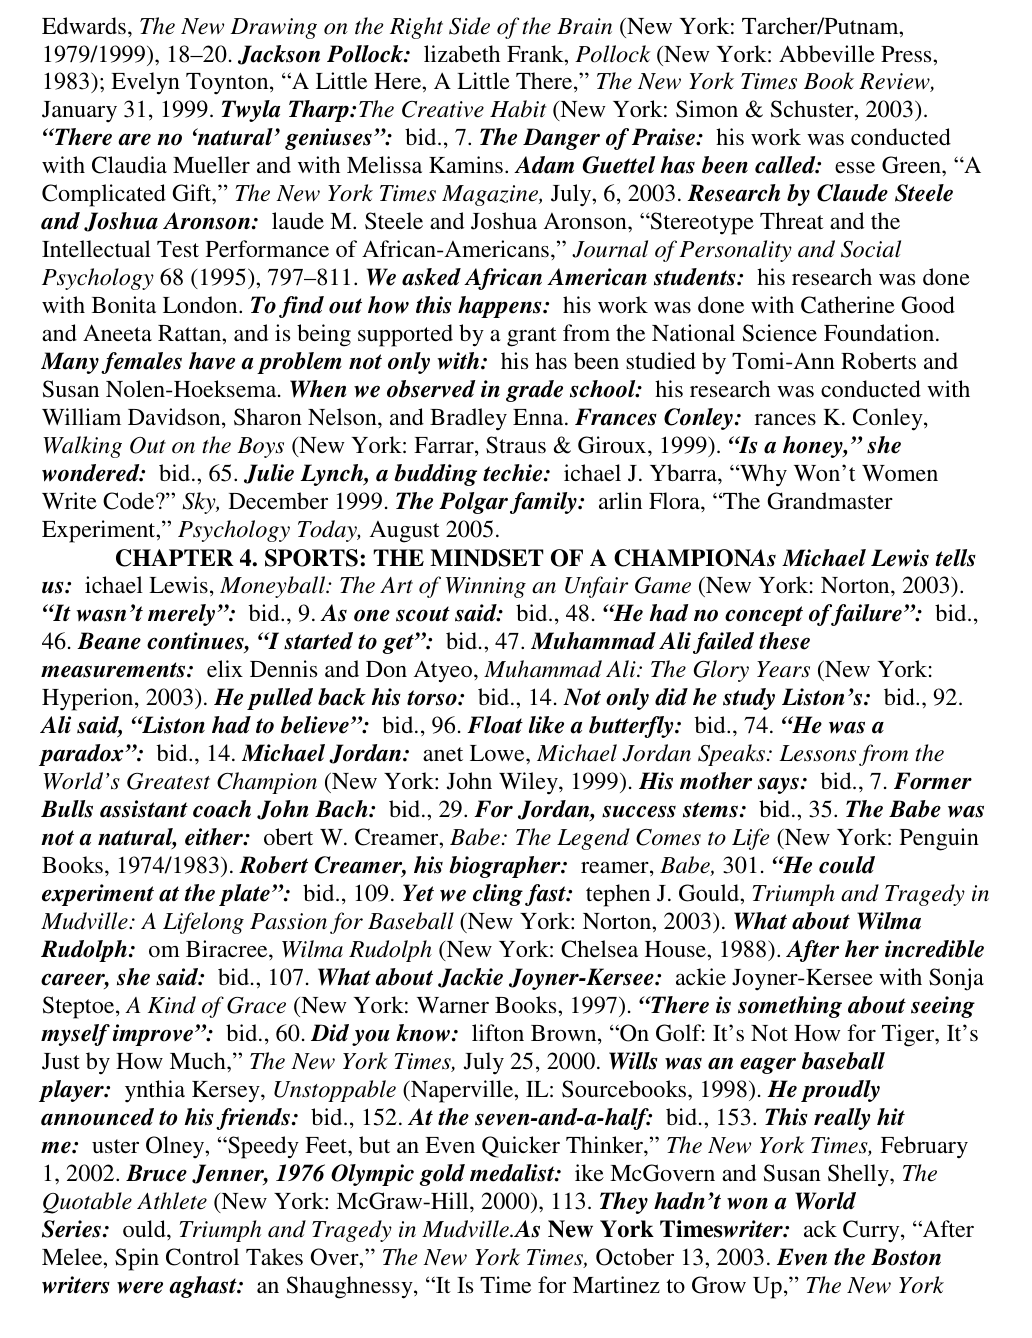latin: (25, 995, 984, 1304), (38, 14, 976, 292), (29, 292, 973, 543), (35, 543, 979, 793), (31, 796, 986, 993)
